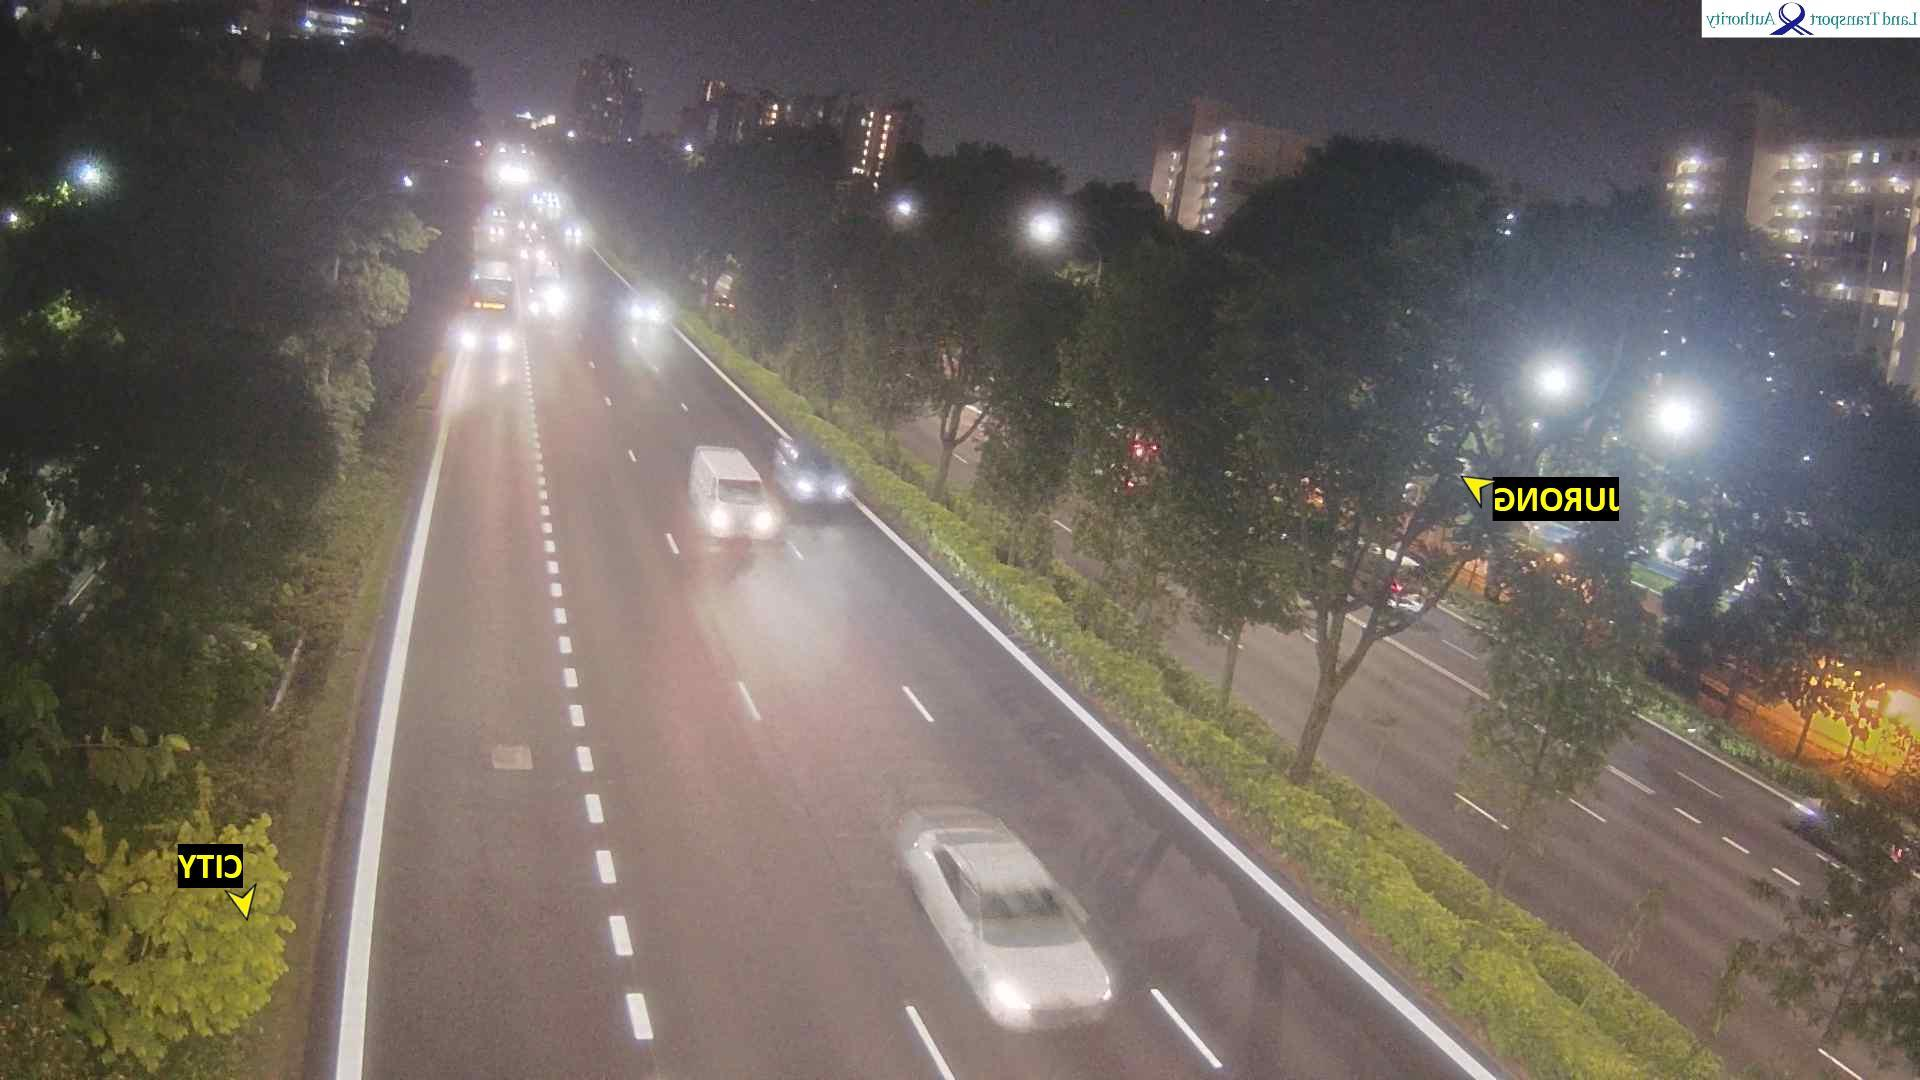incoming: (960, 878, 1122, 1040), (703, 473, 787, 550), (460, 266, 524, 364), (790, 454, 855, 516), (530, 273, 566, 316), (628, 302, 659, 327), (559, 222, 588, 240), (521, 241, 545, 261)
